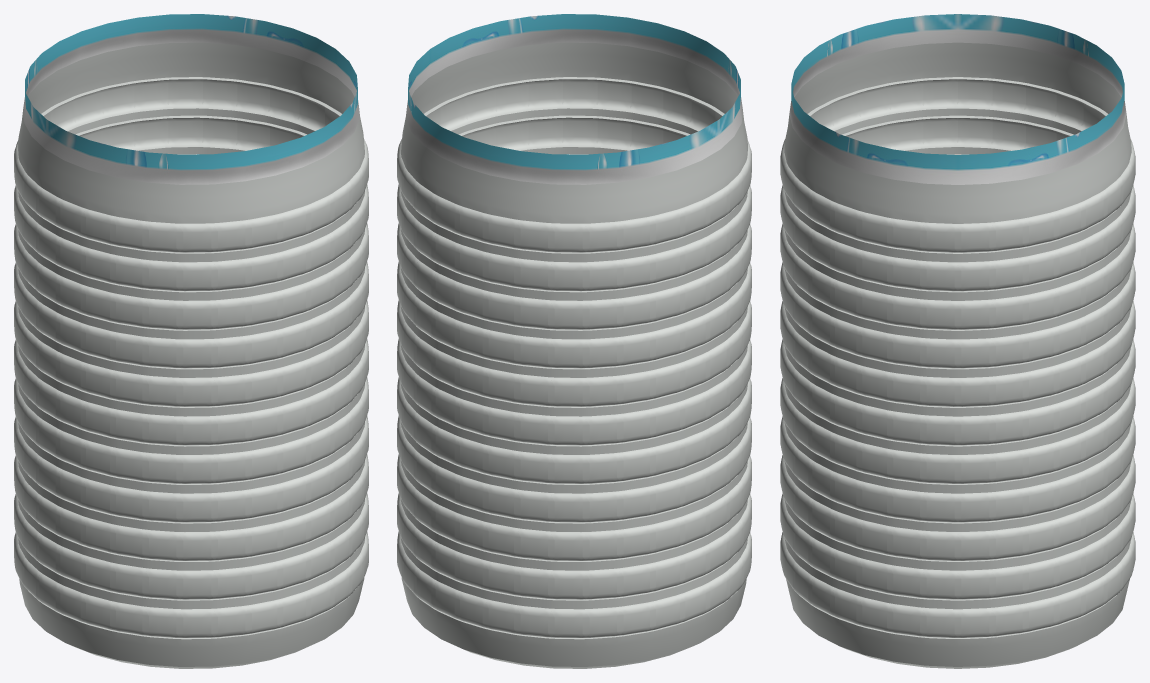
Rendered from bottle-2.glb.
3 renders of one model, left to right at view 1: azimuth 30°, elevation 25°; view 2: azimuth 150°, elevation 25°; view 3: azimuth 270°, elevation 25°, orthographic.
Parts seen in each view (by area): view 1: Cylinder_water lable_0.001; view 2: Cylinder_water lable_0.001; view 3: Cylinder_water lable_0.001.
Part boxes in pixels (bbox=[...]): Cylinder_water lable_0.001: bbox=[14, 14, 368, 668]; Cylinder_water lable_0.001: bbox=[397, 14, 751, 668]; Cylinder_water lable_0.001: bbox=[780, 14, 1135, 668].
Size of the model in its own units: 0.3549 by 0.5995 by 0.3549.
Materials: 2 (1 with a texture image).
